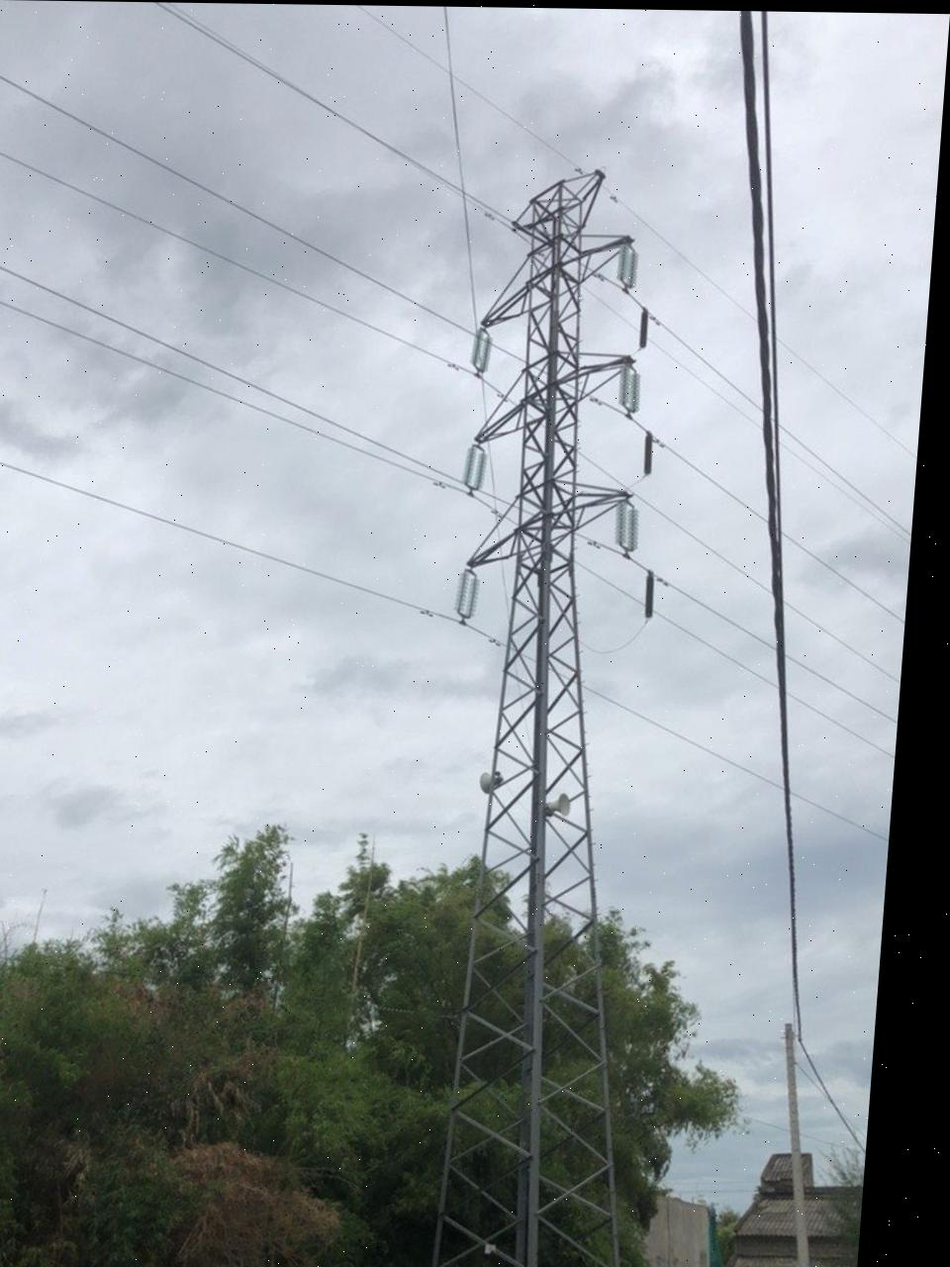tower: (384, 146, 715, 1267)
